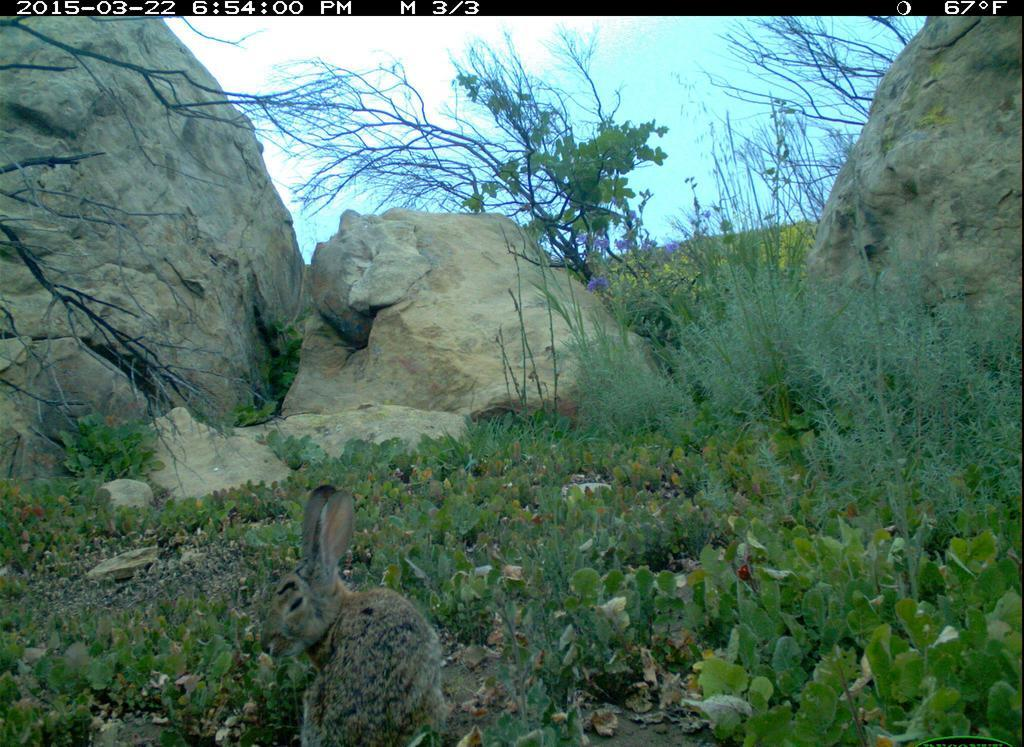rabbit: (240, 466, 501, 745)
